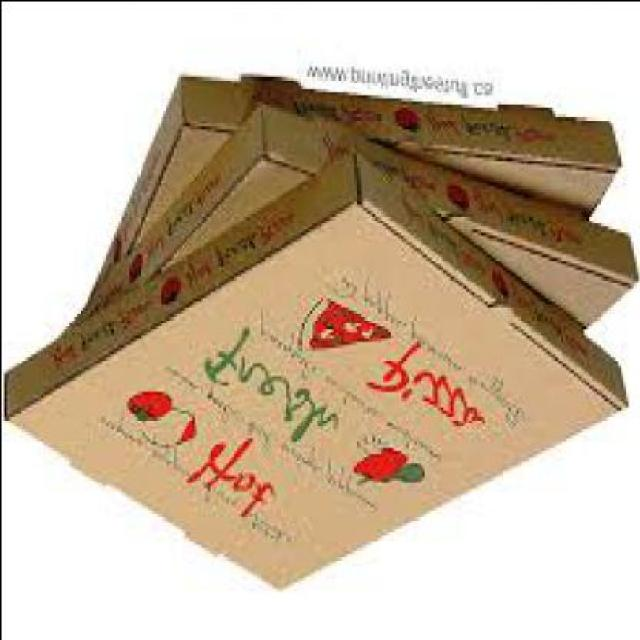CARDBOARD: (2, 146, 624, 594), (66, 103, 634, 334), (89, 75, 616, 296)
